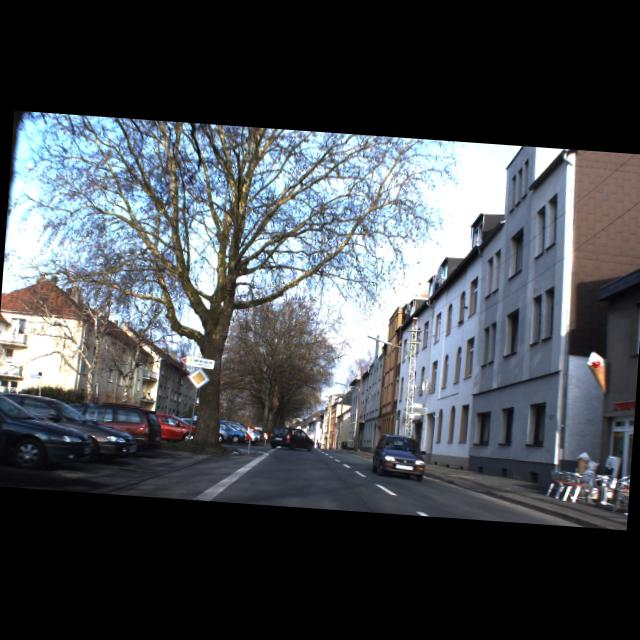other: (186, 366, 211, 391)
